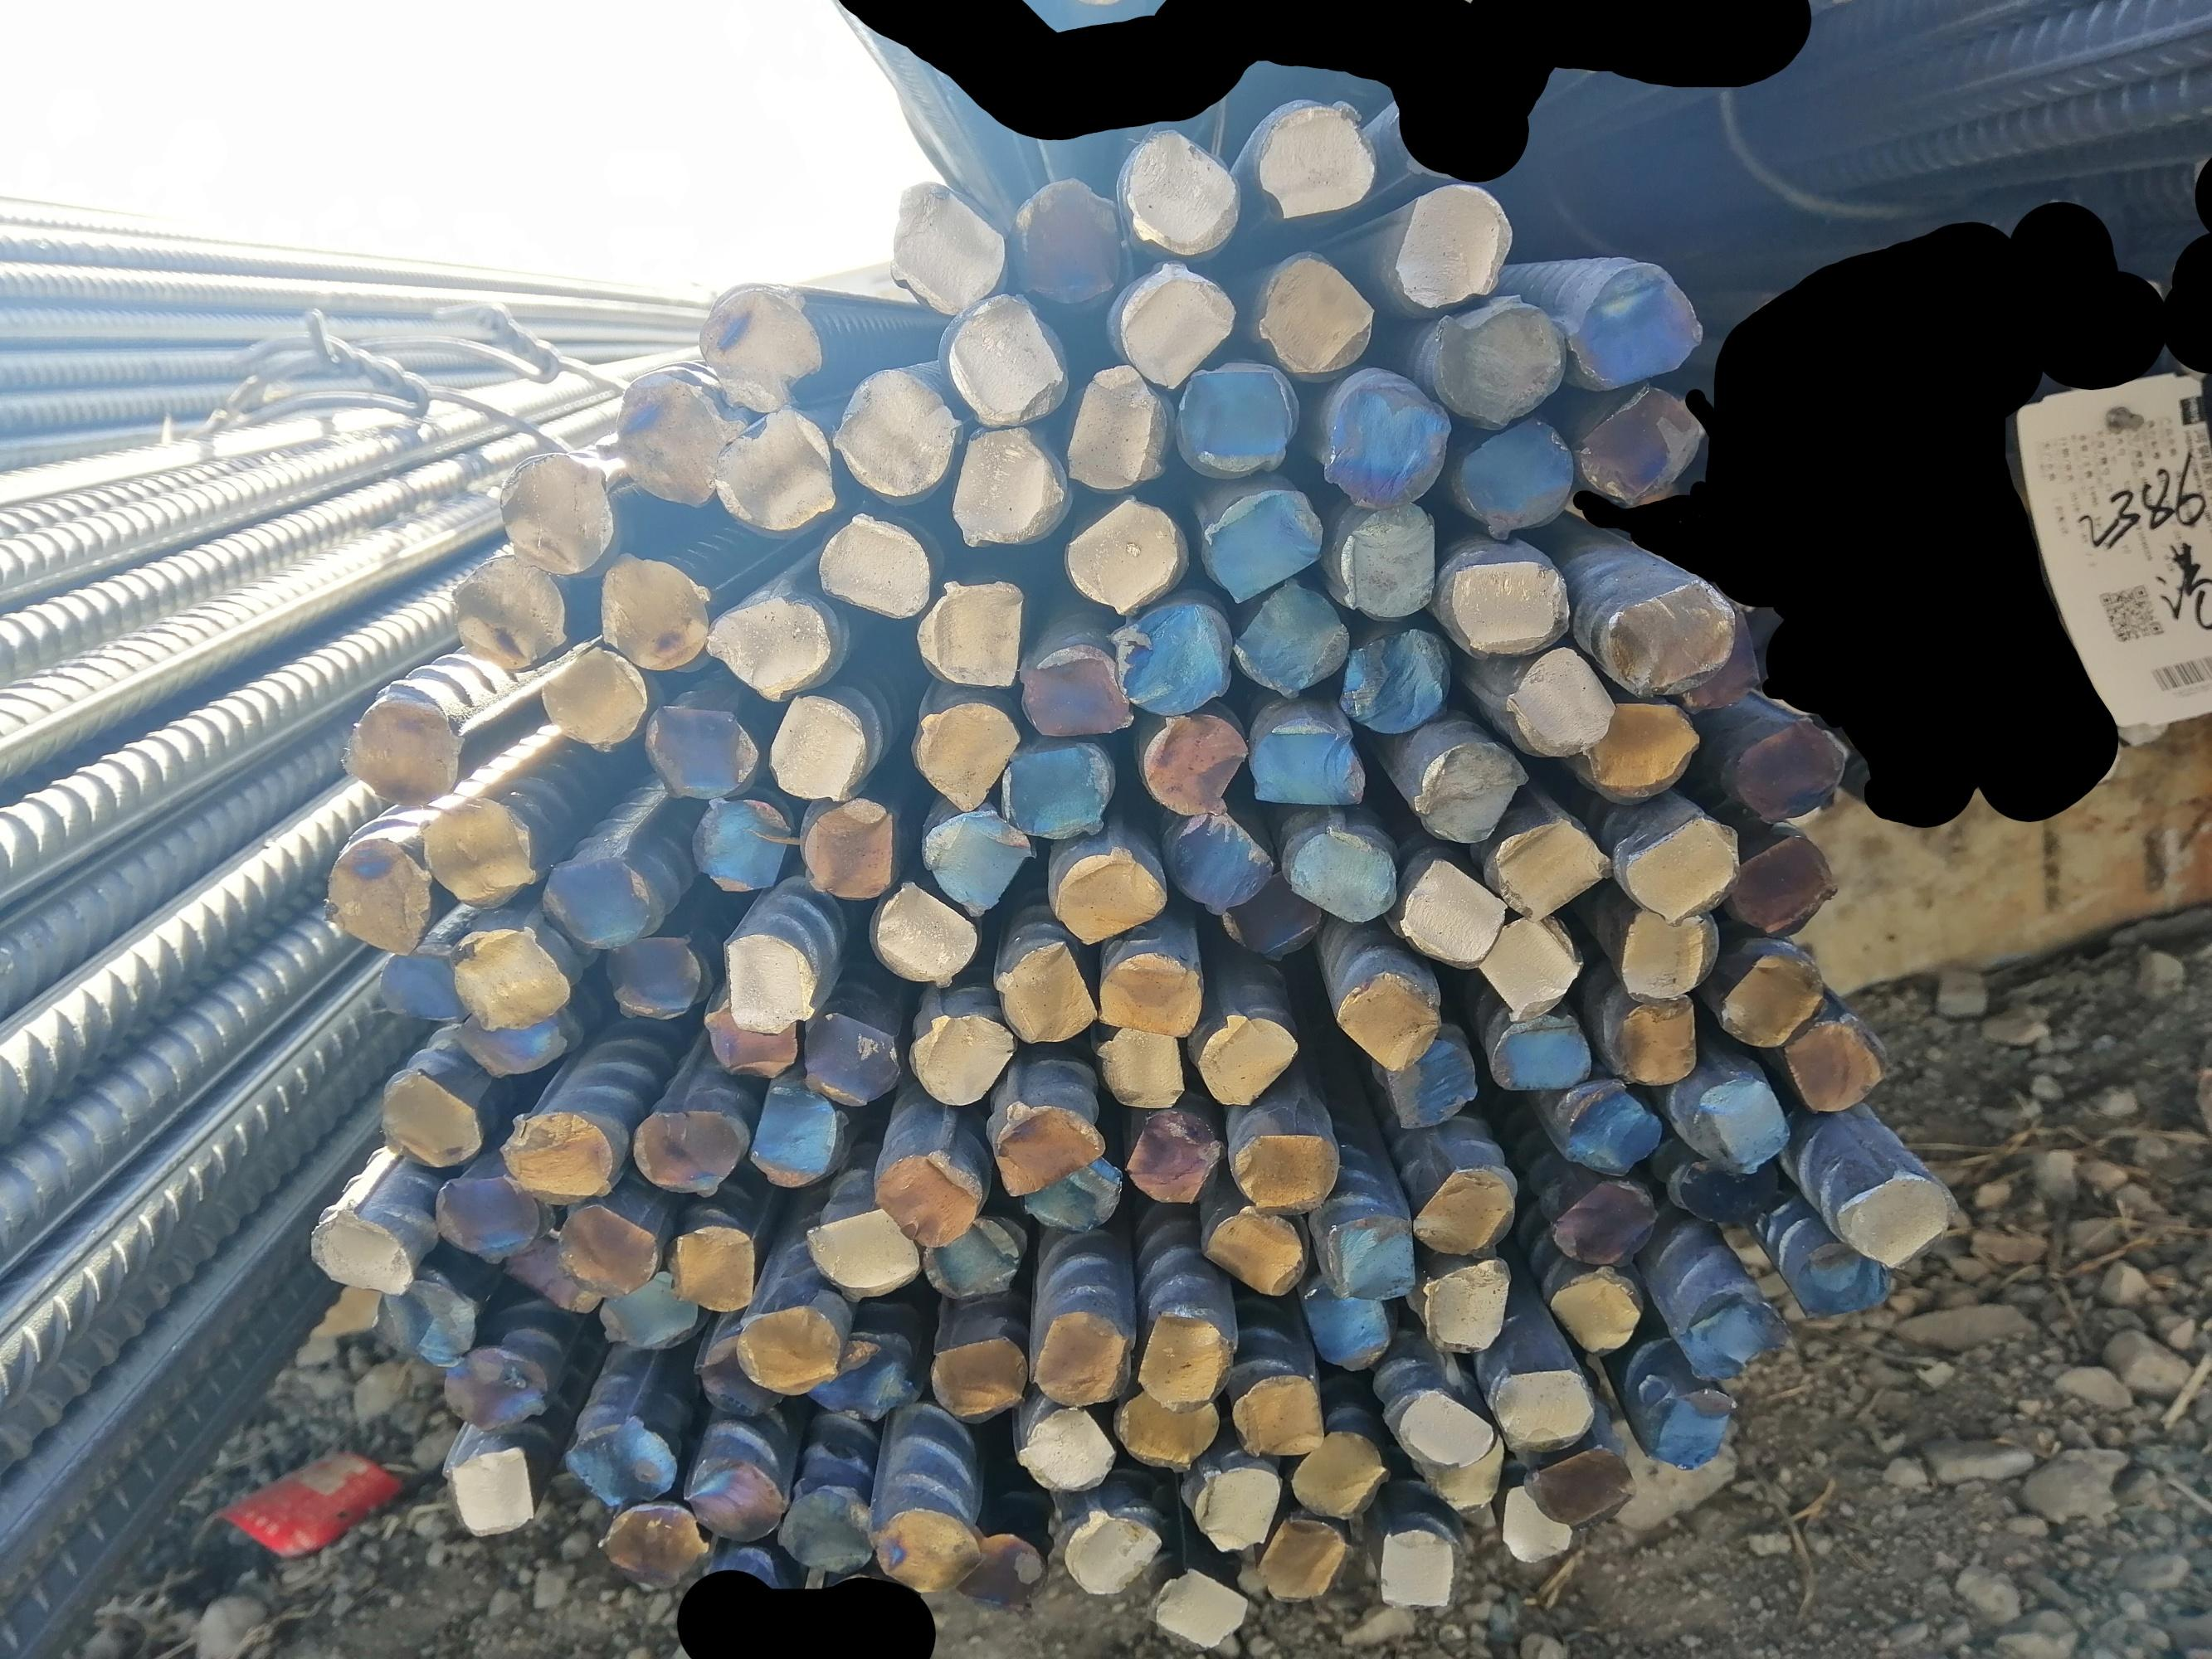bar: (1567, 253, 1706, 390), (1429, 291, 1571, 427), (941, 288, 1072, 427), (1321, 368, 1452, 507), (615, 371, 744, 511), (1602, 563, 1734, 697), (1004, 176, 1133, 310), (884, 178, 1011, 314), (697, 279, 824, 410), (1123, 122, 1250, 253), (833, 366, 957, 500), (1572, 382, 1708, 502), (1389, 179, 1513, 310), (1116, 258, 1234, 394), (1062, 490, 1187, 615), (1107, 594, 1234, 718), (1459, 411, 1576, 544), (950, 425, 1074, 549), (340, 692, 465, 814), (493, 450, 619, 572), (1255, 98, 1377, 221), (1227, 579, 1353, 699), (589, 549, 711, 671), (417, 795, 540, 915), (1170, 359, 1295, 477), (718, 403, 835, 530), (321, 833, 436, 962), (1196, 486, 1325, 601), (1259, 247, 1377, 371), (1724, 706, 1848, 823), (1625, 810, 1745, 929), (443, 925, 570, 1037), (450, 556, 568, 673), (1412, 737, 1532, 852), (1339, 626, 1462, 737), (1440, 552, 1572, 655), (704, 594, 833, 699), (1394, 854, 1511, 969), (1489, 814, 1611, 922), (1065, 359, 1163, 493), (1834, 1169, 1961, 1272), (1574, 695, 1705, 795), (1508, 640, 1614, 762), (912, 577, 1023, 690), (910, 701, 1021, 812), (1163, 805, 1278, 913), (816, 511, 931, 619), (1333, 502, 1438, 620), (540, 641, 652, 751), (922, 809, 1032, 918), (870, 877, 978, 988), (988, 1098, 1107, 1199), (427, 1169, 556, 1262), (1553, 1077, 1663, 1185), (1332, 969, 1443, 1075), (1471, 915, 1584, 1019), (995, 934, 1098, 1049), (1668, 594, 1771, 709), (866, 1147, 983, 1248), (1248, 709, 1365, 810), (763, 692, 870, 802), (539, 847, 652, 950), (1286, 819, 1400, 922), (641, 699, 758, 798), (1138, 711, 1248, 816), (373, 1068, 485, 1171), (746, 1075, 845, 1190), (563, 1413, 680, 1511), (1403, 1162, 1520, 1260), (499, 1112, 617, 1208), (800, 1201, 919, 1297), (1729, 833, 1835, 939), (1686, 1072, 1794, 1176), (903, 1009, 1018, 1107), (995, 742, 1110, 840), (716, 925, 818, 1035), (1055, 843, 1168, 941), (1021, 641, 1135, 739), (628, 1107, 744, 1199), (1196, 1007, 1302, 1108), (439, 1342, 553, 1436), (1719, 948, 1825, 1047), (549, 1201, 659, 1297), (600, 1495, 709, 1591), (690, 791, 791, 894), (1781, 1012, 1884, 1114), (797, 795, 896, 899), (1677, 1284, 1783, 1382), (598, 929, 708, 1023), (1229, 1124, 1344, 1213), (1377, 1032, 1480, 1131), (1121, 1107, 1225, 1204), (1138, 1305, 1234, 1412), (868, 1506, 985, 1593), (736, 1298, 844, 1392), (1199, 1202, 1307, 1297), (950, 1511, 1051, 1610), (1030, 1307, 1131, 1406), (683, 1450, 788, 1546), (1490, 1359, 1597, 1453), (1550, 1175, 1656, 1269), (1614, 906, 1720, 1000), (802, 1331, 915, 1419), (919, 1208, 1023, 1302), (368, 1279, 481, 1364), (1229, 866, 1333, 958), (594, 1269, 702, 1358), (1058, 1506, 1166, 1595), (446, 1006, 577, 1079), (1551, 1260, 1651, 1356), (804, 1009, 898, 1110), (310, 1204, 411, 1298), (774, 1485, 877, 1577), (1290, 1431, 1394, 1521), (443, 1441, 539, 1539), (1021, 1147, 1126, 1236), (1792, 1236, 1896, 1324), (1525, 1443, 1639, 1525), (1114, 1382, 1220, 1469), (1095, 951, 1203, 1037), (1421, 1256, 1515, 1354), (1321, 1208, 1419, 1302), (661, 1222, 760, 1312), (1013, 1403, 1116, 1490), (1145, 1563, 1252, 1647), (1187, 1460, 1281, 1554), (927, 1333, 1027, 1422), (1229, 1371, 1332, 1457), (1391, 1385, 1497, 1467), (1300, 1279, 1396, 1370), (1607, 995, 1700, 1086), (495, 1237, 601, 1314), (1374, 1521, 1459, 1615), (702, 995, 798, 1079), (1095, 1023, 1185, 1110), (1487, 1016, 1591, 1091), (373, 946, 471, 1026), (1673, 1154, 1778, 1227), (694, 1331, 783, 1417), (1429, 1417, 1508, 1511), (1644, 1387, 1734, 1467), (1259, 1521, 1347, 1601), (1494, 1483, 1578, 1563)
